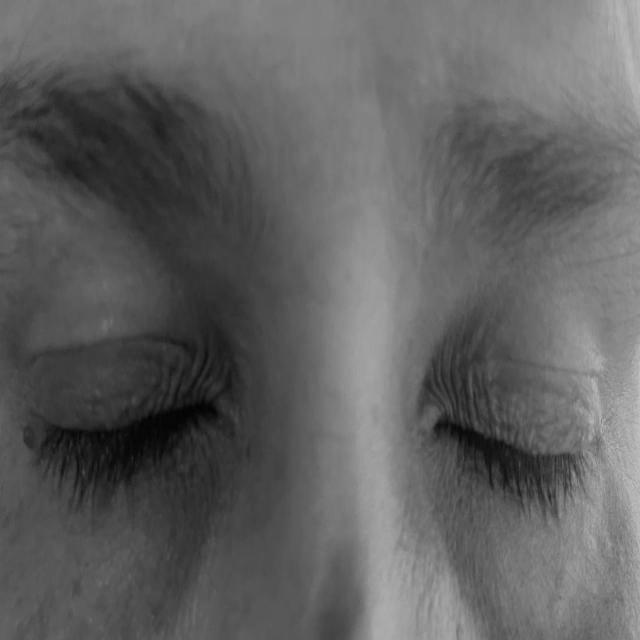real: (13, 244, 639, 550)
